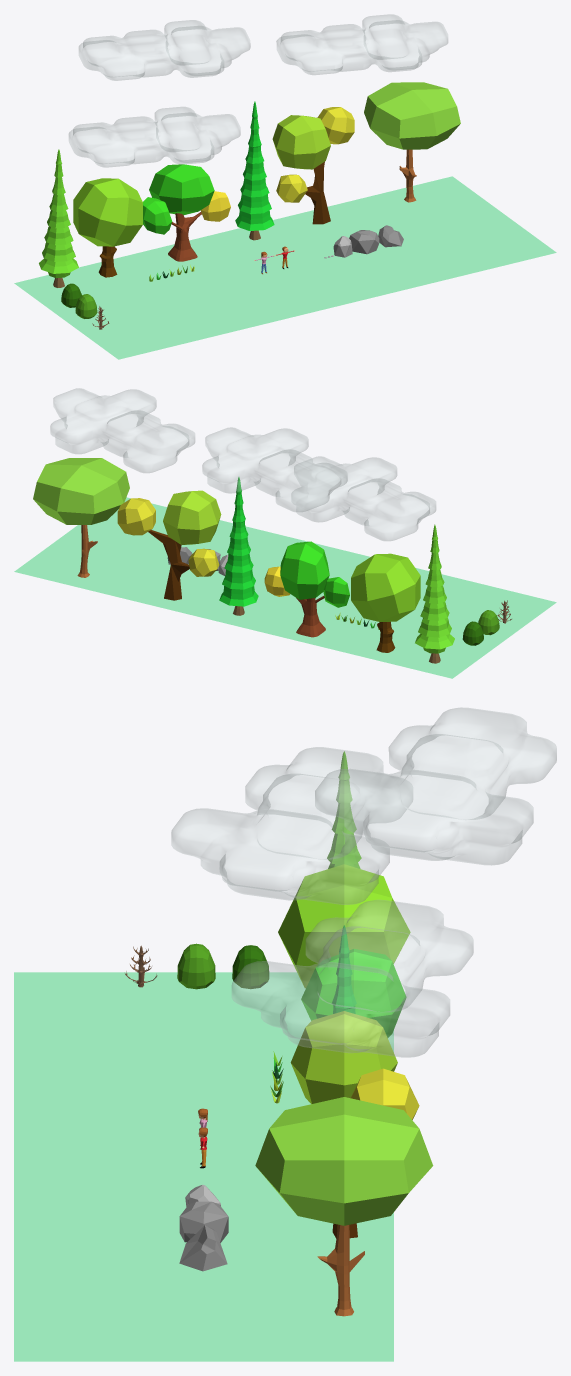
Rendered from land scape.fbx.
The picture shows the model from 3 angles, top to bottom: view 1: azimuth 30°, elevation 25°; view 2: azimuth 150°, elevation 25°; view 3: azimuth 270°, elevation 25°; orthographic projection. The views are drawn at different scales.
Visible parts, largest first — view 1: Plane, Mball.002, Mball.003, Mball.001, tree 5, tree 4, tree 3, tree 1, tree 2, tree 2.1, Icosphere.001, bush2 (+1 smaller); view 2: Plane, Mball.003, Mball.001, Mball.002, tree 5, tree 4, tree 1, tree 3, tree 2, tree 2.1, bush1, bush2; view 3: Plane, Mball.003, Mball.001, Mball.002, tree 5, tree 1, tree 4, tree 3, tree 2.1, Icosphere.001, Icosphere, bush2 (+2 smaller).
Boxes of the visible parts, x1,y1,x2,y2 form: Plane: [14, 176, 556, 359]; Mball.002: [69, 107, 240, 167]; Mball.003: [79, 20, 250, 80]; Mball.001: [276, 14, 447, 74]; tree 5: [364, 82, 460, 202]; tree 4: [272, 107, 354, 224]; tree 3: [143, 164, 230, 261]; tree 1: [73, 178, 142, 277]; tree 2: [235, 101, 274, 240]; tree 2.1: [39, 149, 78, 287]; Icosphere.001: [349, 230, 379, 254]; bush2: [75, 294, 97, 318]; Plane: [14, 497, 556, 678]; Mball.003: [202, 427, 347, 511]; Mball.001: [50, 388, 194, 472]; Mball.002: [291, 456, 435, 540]; tree 5: [33, 458, 129, 577]; tree 4: [117, 490, 221, 600]; tree 1: [351, 553, 420, 652]; tree 3: [264, 541, 349, 637]; tree 2: [219, 477, 258, 615]; tree 2.1: [415, 524, 454, 663]; bush1: [462, 621, 483, 645]; bush2: [478, 610, 499, 635]; Plane: [14, 972, 393, 1361]; Mball.003: [315, 707, 556, 865]; Mball.001: [232, 900, 473, 1057]; Mball.002: [171, 747, 412, 904]; tree 5: [255, 1097, 433, 1316]; tree 1: [278, 864, 410, 988]; tree 4: [290, 1011, 419, 1238]; tree 3: [301, 949, 406, 1037]; tree 2.1: [327, 751, 361, 868]; Icosphere.001: [179, 1201, 228, 1242]; Icosphere: [179, 1225, 227, 1271]; bush2: [177, 943, 215, 989].
Size of the model in its own units: 3202 by 1374 by 1888.
